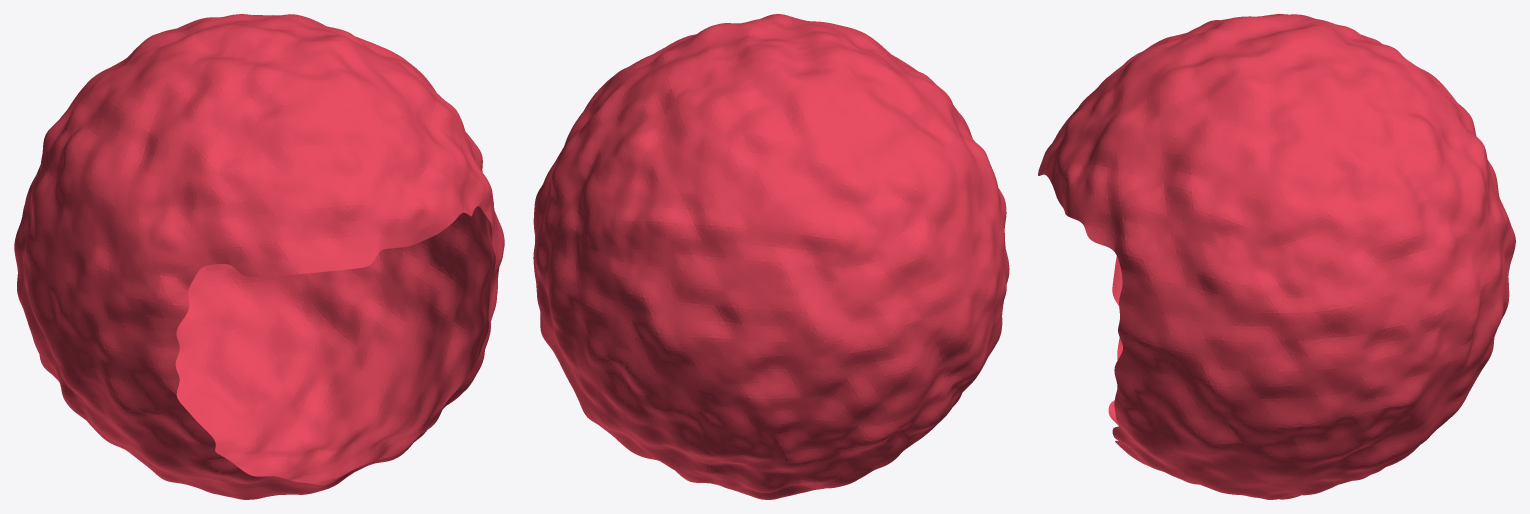
The model's file is environment.fbx.
3 views of the same model, side by side, from view 1: azimuth 30°, elevation 25°; view 2: azimuth 150°, elevation 25°; view 3: azimuth 270°, elevation 25° (orthographic).
Visible parts, largest first — view 1: GaudiCave; view 2: GaudiCave; view 3: GaudiCave.
Boxes of the visible parts, x1=… form: GaudiCave: x1=14, y1=14, x2=504, y2=499; GaudiCave: x1=533, y1=14, x2=1009, y2=499; GaudiCave: x1=1038, y1=14, x2=1515, y2=499.
Bounding box in the file's own units: 3032 × 3012 × 2987.
